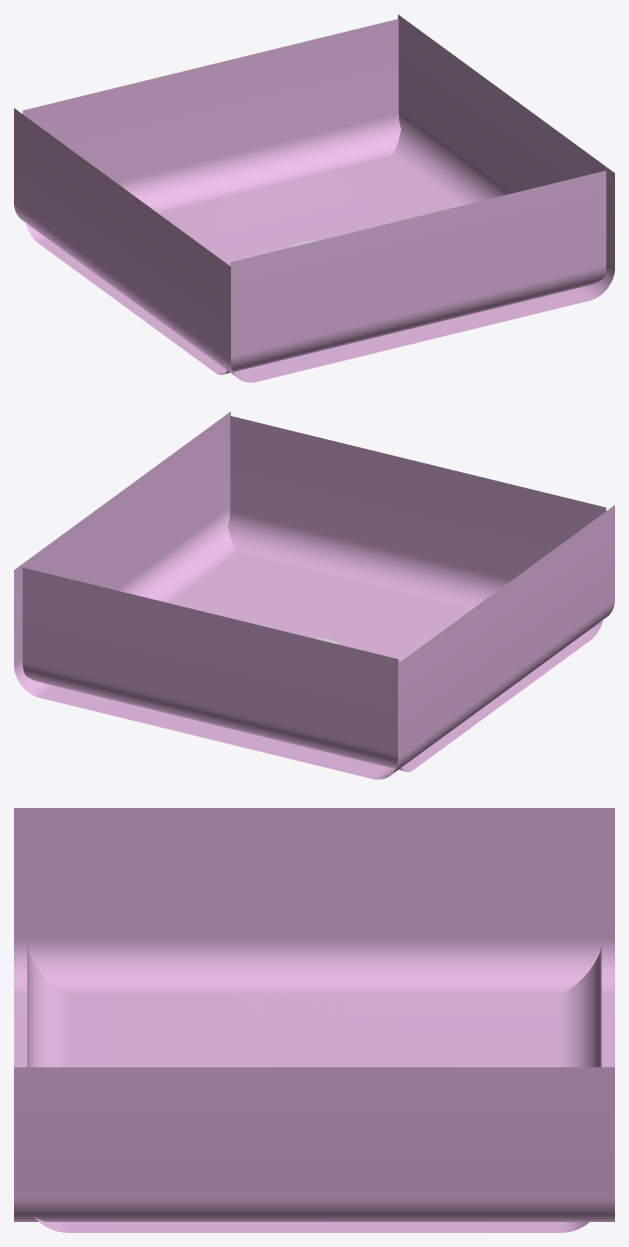
Rendered from stage.glb.
3 renders of one model, top to bottom at view 1: azimuth 30°, elevation 25°; view 2: azimuth 150°, elevation 25°; view 3: azimuth 270°, elevation 25°, orthographic. The views are drawn at different scales.
Visible parts, largest first — view 1: Plane_1, Plane_1.001, Plane_1.002, Plane_1.003; view 2: Plane_1.001, Plane_1, Plane_1.003, Plane_1.002; view 3: Plane_1.003, Plane_1.002, Plane_1.001, Plane_1.
Boxes of the visible parts, box(x1,y1,x2,y2) form: Plane_1: box(22, 19, 412, 320); Plane_1.001: box(145, 170, 606, 374); Plane_1.002: box(320, 14, 614, 345); Plane_1.003: box(14, 108, 403, 382); Plane_1.001: box(169, 416, 606, 691); Plane_1: box(22, 567, 519, 771); Plane_1.003: box(187, 505, 614, 779); Plane_1.002: box(14, 411, 236, 733); Plane_1.003: box(14, 808, 614, 1067); Plane_1.002: box(14, 1067, 614, 1221); Plane_1.001: box(27, 943, 363, 1232); Plane_1: box(264, 943, 601, 1232).
Bounding box in the file's own units: 31.04 × 10.14 × 30.4.
